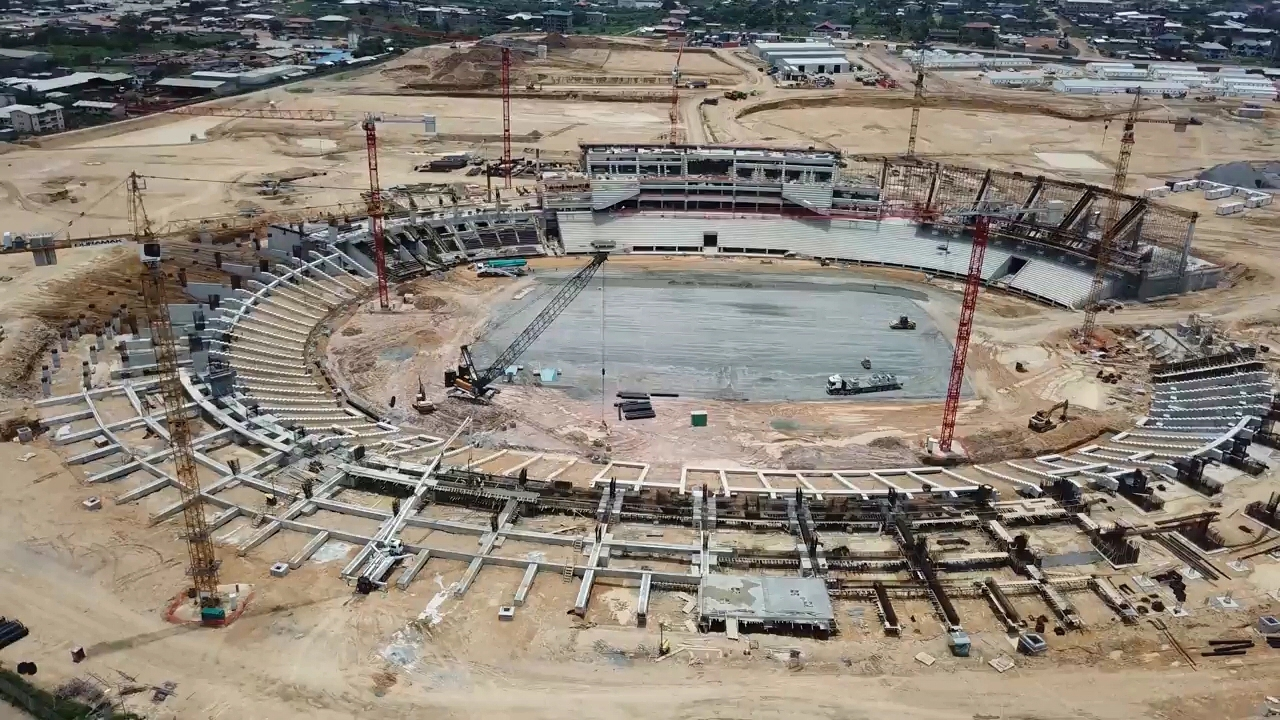ismakinesi: (406, 376, 436, 415)
kamyon: (824, 368, 903, 396)
traktor: (891, 315, 919, 330)
